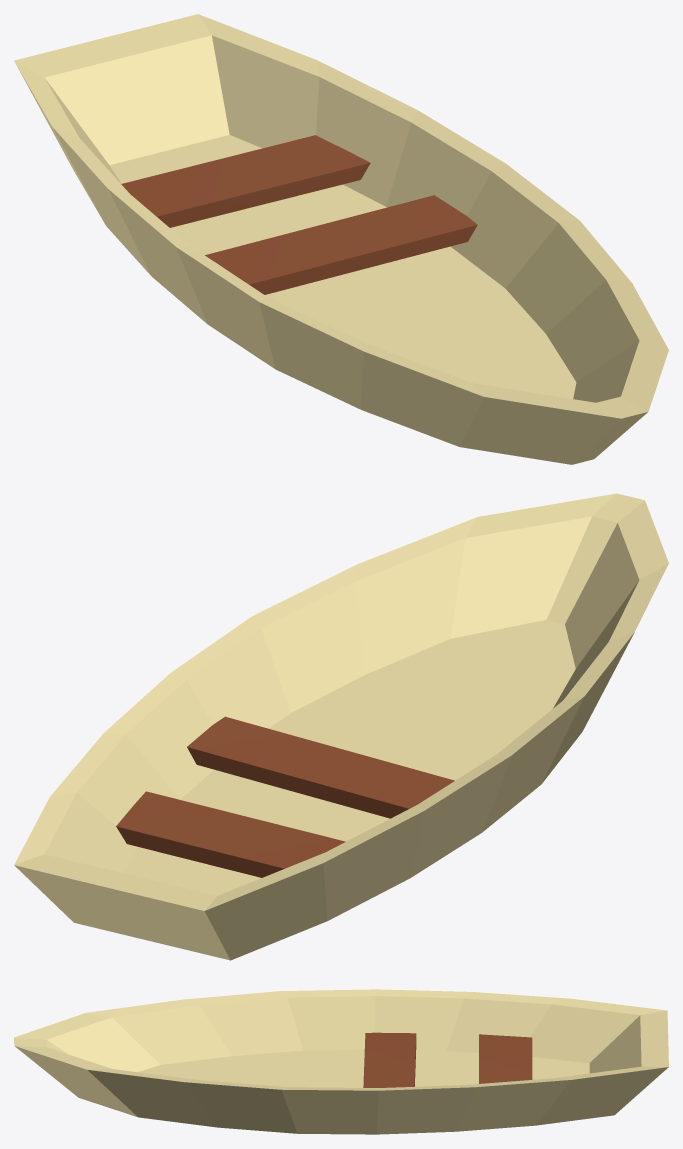
The model's file is Boat With engine.fbx.
The picture shows the model from 3 angles, top to bottom: view 1: azimuth 30°, elevation 25°; view 2: azimuth 150°, elevation 25°; view 3: azimuth 270°, elevation 25°; orthographic projection. The views are drawn at different scales.
Parts seen in each view (by area): view 1: Boat With engine; view 2: Boat With engine; view 3: Boat With engine.
Boxes of the visible parts, x1,y1,x2,y2 form: Boat With engine: [14, 14, 668, 464]; Boat With engine: [14, 493, 668, 960]; Boat With engine: [14, 989, 668, 1134].
Size of the model in its own units: 153 by 37.57 by 417.
